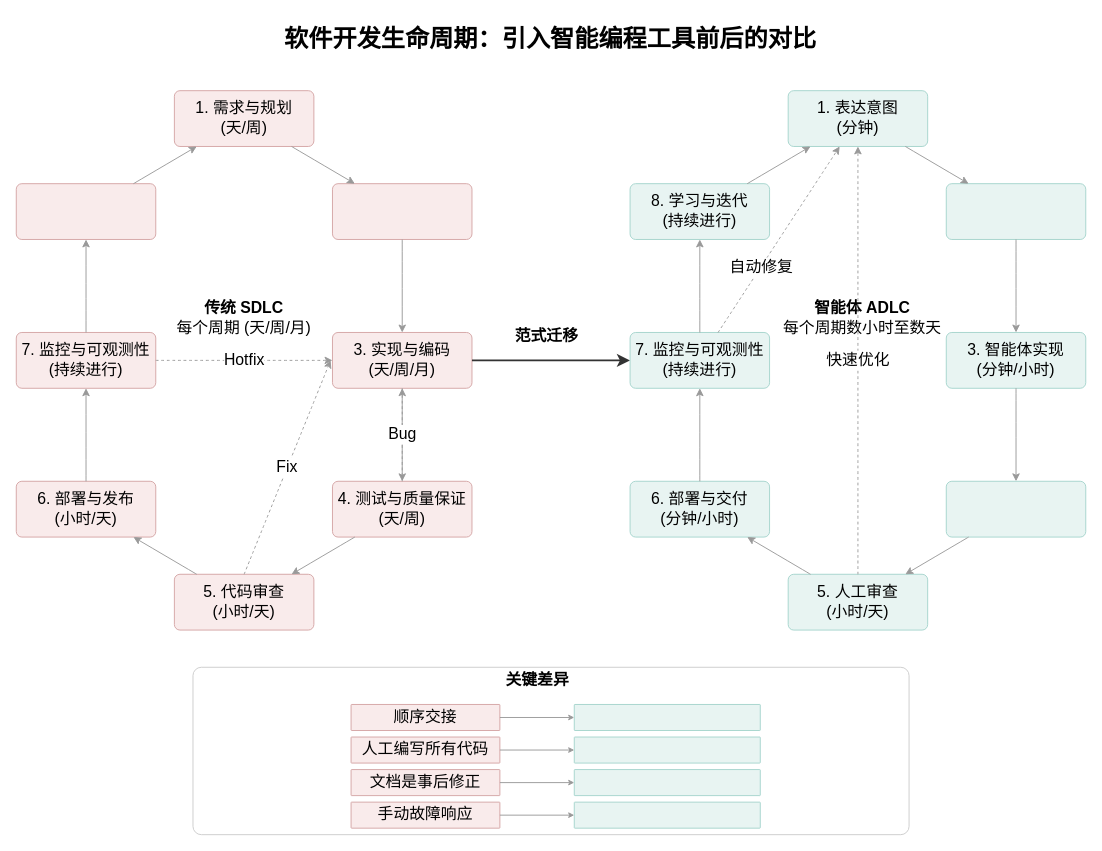
The diagram is 1102 pixels wide and 851 high, and some of its shapes have lost their labels. The centre of each missing label's shape, as x and y in pixels:
"2. 智能体理解 (分钟/小时)" belongs at point (1015, 211).
"2. 系统设计 (天)" belongs at point (402, 211).
"4. 智能体测试 + 文档 ( 分钟/小时 )" belongs at point (1015, 508).
"8. 反馈与迭代 (持续不断)" belongs at point (85, 211).
"人工引导，智能体执行" belongs at point (666, 749).
"文档同步生成" belongs at point (666, 782).
"智能体辅助修复" belongs at point (666, 814).
"流畅的智能体并行协作" belongs at point (666, 717).
